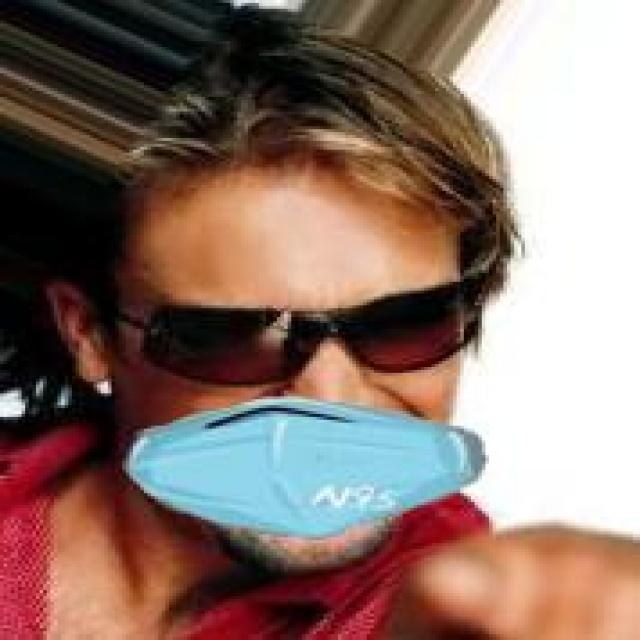mask: (54, 85, 500, 587)
